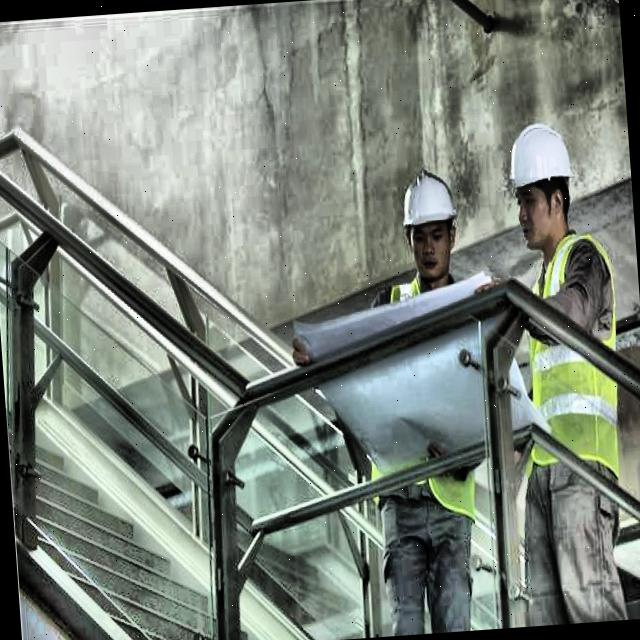helmet: (496, 107, 583, 268), (392, 160, 468, 293)
